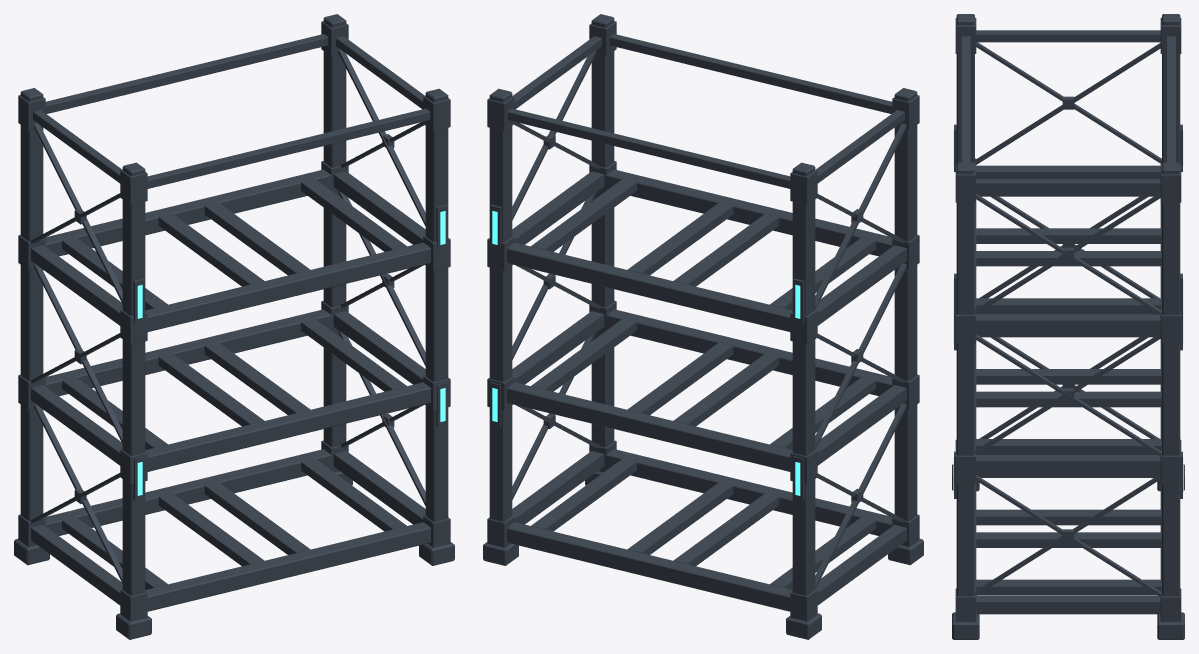
Rendered from rack_empty.glb.
3 views of the same model, side by side, from view 1: azimuth 30°, elevation 25°; view 2: azimuth 150°, elevation 25°; view 3: azimuth 270°, elevation 25° (orthographic).
Parts seen in each view (by area): view 1: Rack_Frame, Rack_Lights; view 2: Rack_Frame, Rack_Lights; view 3: Rack_Frame.
Part boxes in pixels (x1,y1,x2,y2): Rack_Frame: [14, 14, 454, 639]; Rack_Lights: [137, 211, 445, 495]; Rack_Frame: [483, 14, 923, 639]; Rack_Lights: [492, 211, 800, 495]; Rack_Frame: [952, 14, 1184, 639].
Size of the model in its own units: 2.2 by 3 by 1.35.
